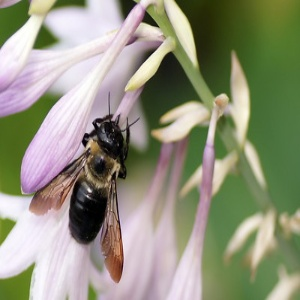bee: (69, 108, 130, 285)
